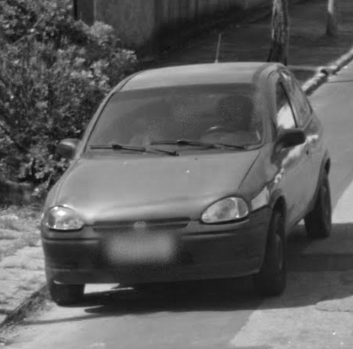car: (40, 61, 333, 304)
